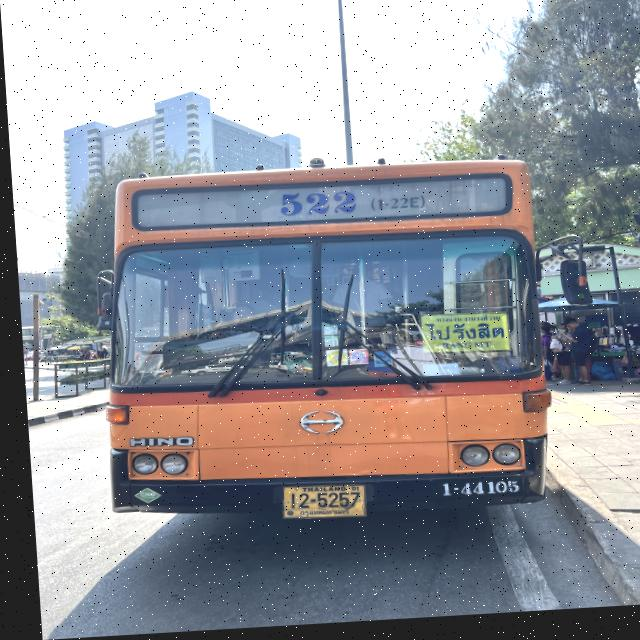BMTA-bus: (99, 167, 546, 526)
Bus Line Number: (271, 184, 432, 224)
Bus Side Number: (428, 482, 518, 506)
Destination Sign: (414, 315, 509, 361)
